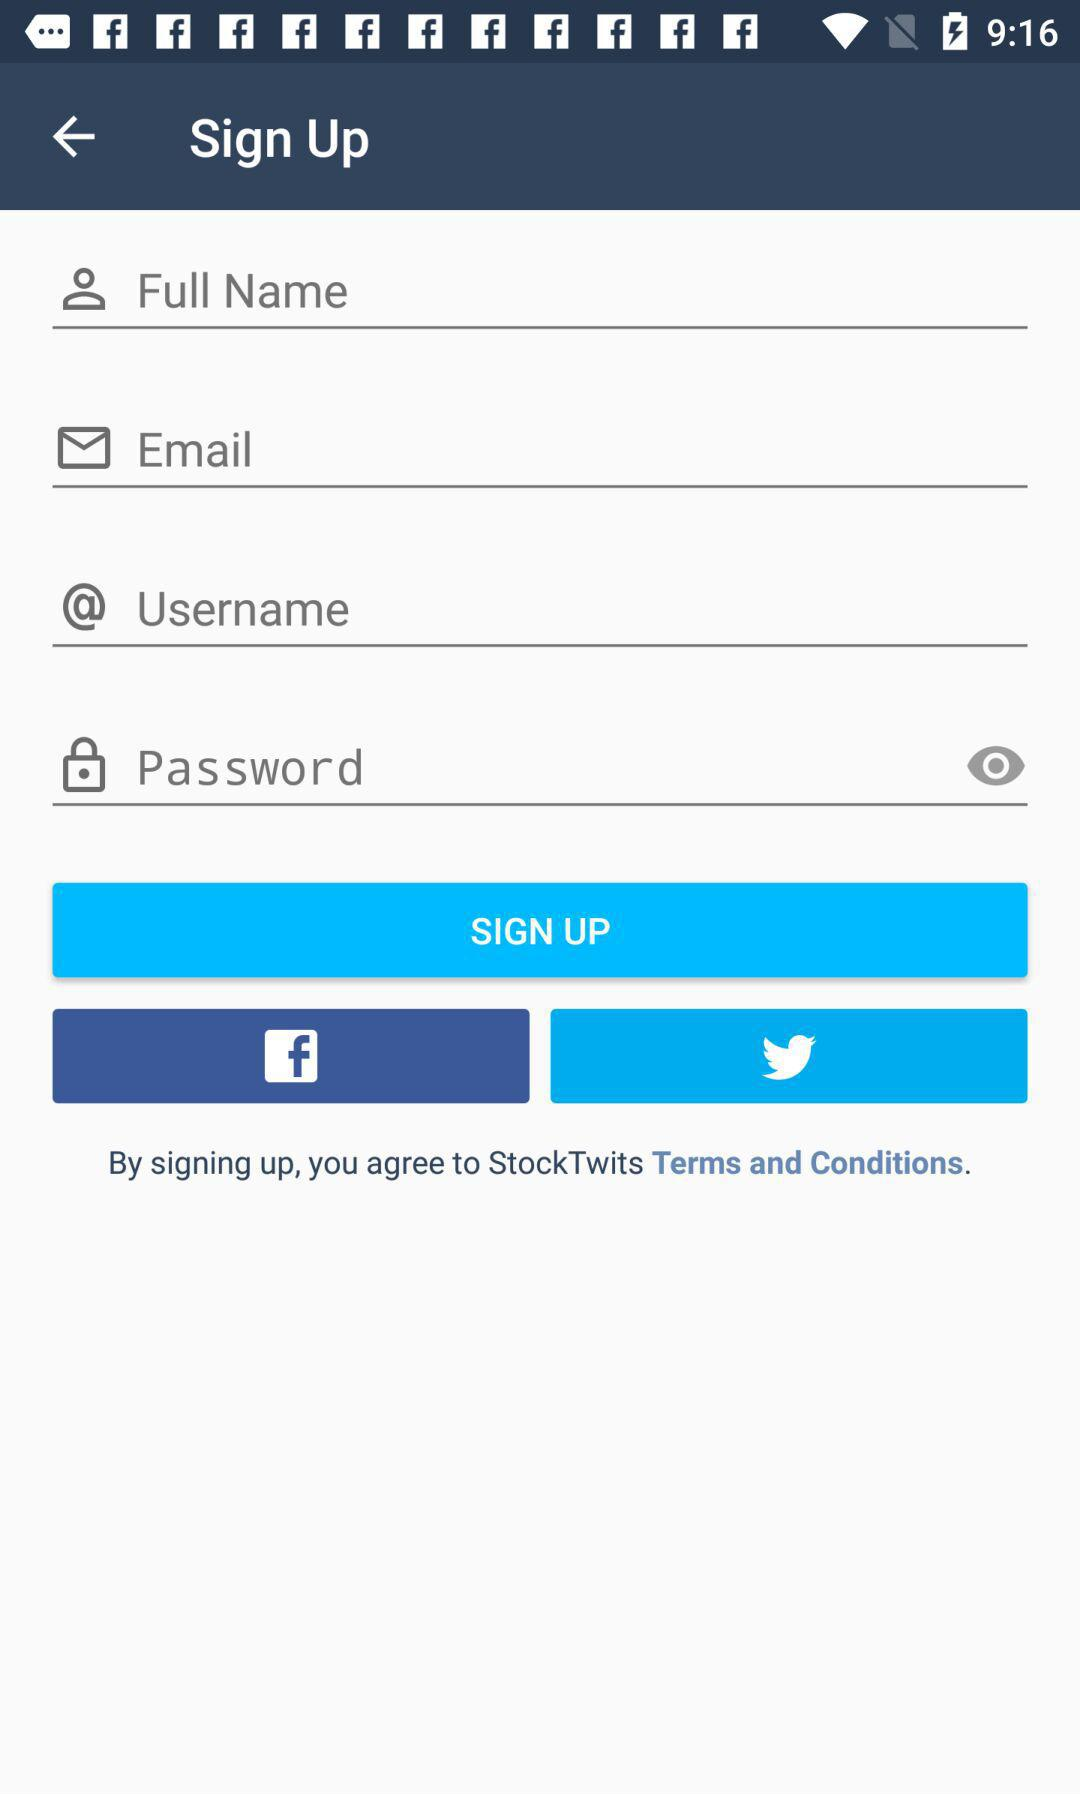EditText: (53, 736, 1029, 807), (53, 582, 1029, 648), (53, 425, 1029, 490), (53, 268, 1029, 331)
Icon: (63, 737, 108, 793), (967, 746, 1026, 787), (58, 427, 111, 470), (63, 583, 108, 632), (53, 115, 97, 160), (63, 268, 108, 311)
Text: (110, 1149, 971, 1183), (190, 117, 372, 170), (138, 748, 363, 787), (140, 270, 348, 310), (138, 591, 348, 628), (138, 431, 251, 469)
TextButton: (53, 882, 1029, 979), (53, 1008, 530, 1105), (550, 1008, 1027, 1105)
Toolbar: (1, 64, 1080, 211)
UpperTaskBar: (1, 1, 1080, 64)
